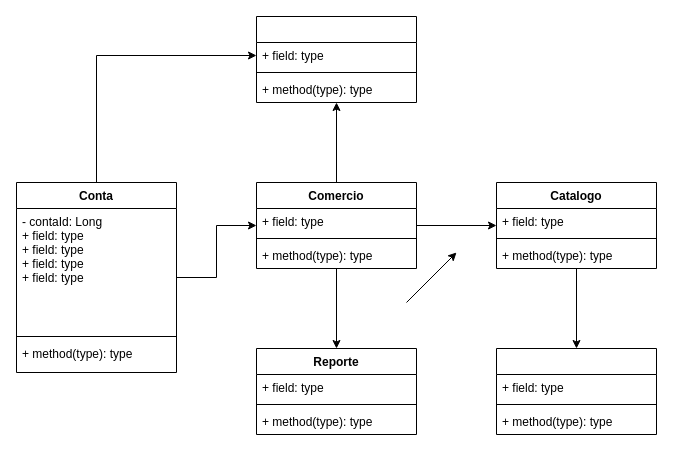
Some shapes in this 673 by 451 pixel diagram are drawn without their labels. The box of each missing label's shape, as (x1, y1, x2, y2) in pixels:
AvaliacaoComercio: (256, 16, 416, 102)
Promocao: (496, 348, 656, 434)
